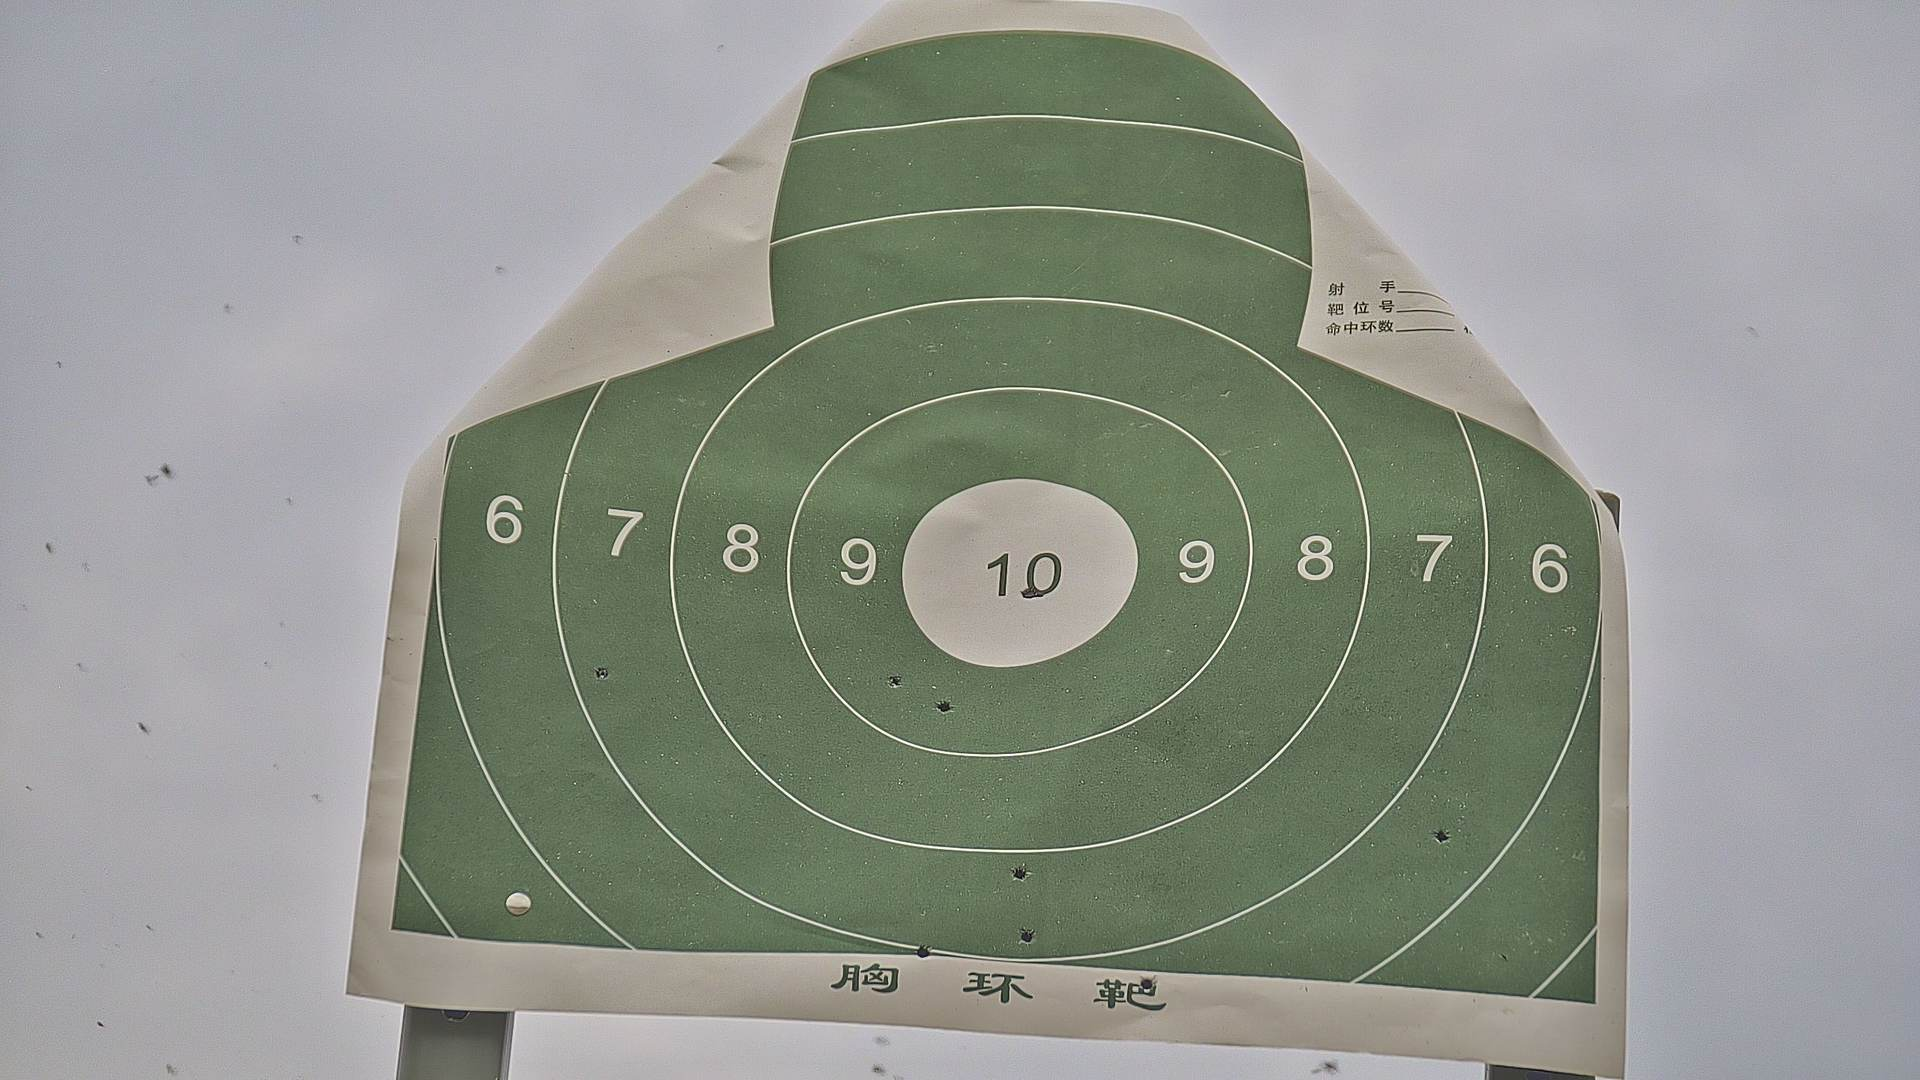hole: (1019, 582, 1042, 603), (1139, 975, 1156, 993), (1011, 864, 1030, 880), (1019, 928, 1036, 944), (914, 942, 930, 957), (1435, 828, 1448, 845), (593, 666, 608, 680), (938, 698, 949, 713), (887, 673, 901, 684)
kernel: (1015, 568, 1022, 576)
target: (386, 28, 1602, 1007)
ten: (905, 480, 1135, 669)
